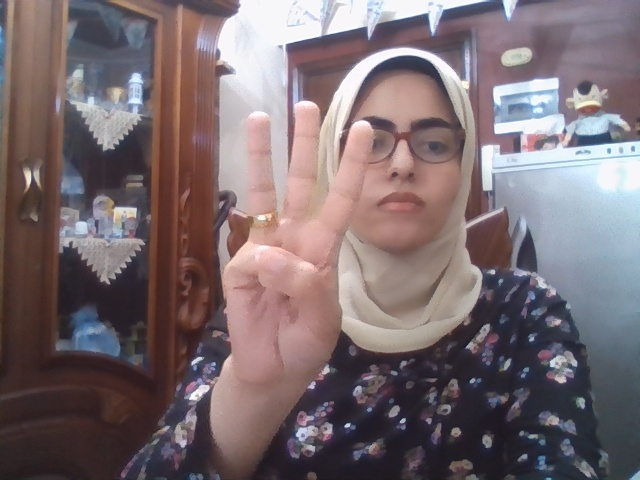W: (223, 101, 372, 391)
